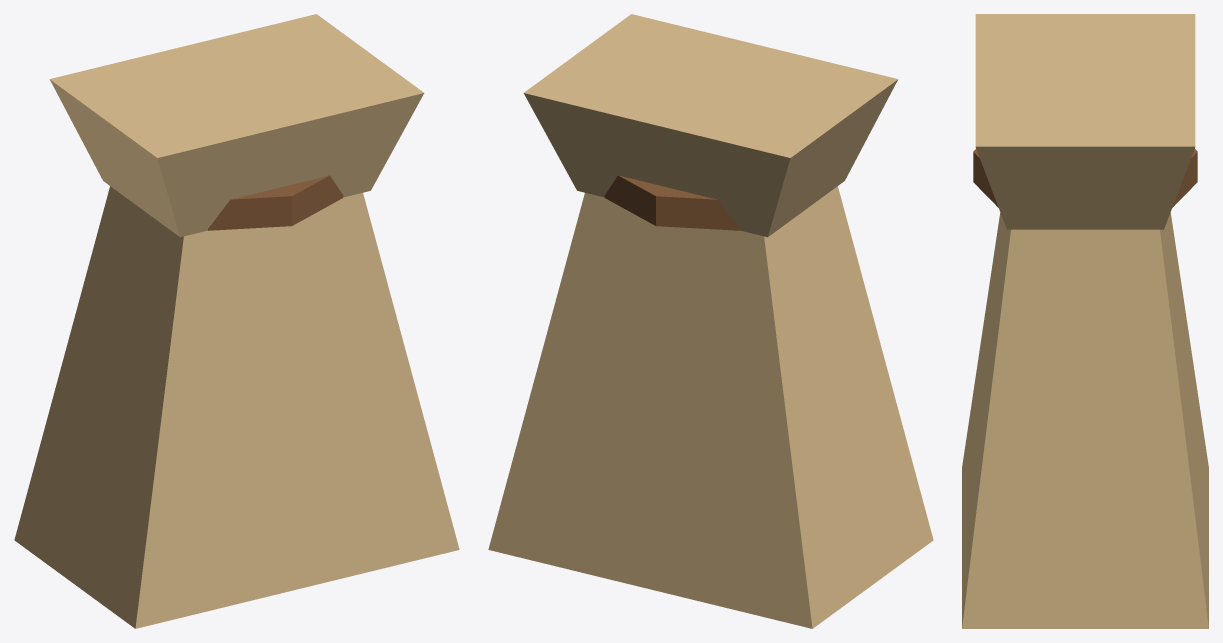
The model's file is seed_bag.obj.
The picture shows the model from 3 angles, left to right: view 1: azimuth 30°, elevation 25°; view 2: azimuth 150°, elevation 25°; view 3: azimuth 270°, elevation 25°; orthographic projection.
Parts seen in each view (by area): view 1: item; view 2: item; view 3: item.
Part boxes in pixels (<box>): item: <box>14,14,459,628</box>; item: <box>488,14,933,628</box>; item: <box>962,14,1208,628</box>.
Size of the model in its own units: 0.34 by 0.46 by 0.22.
